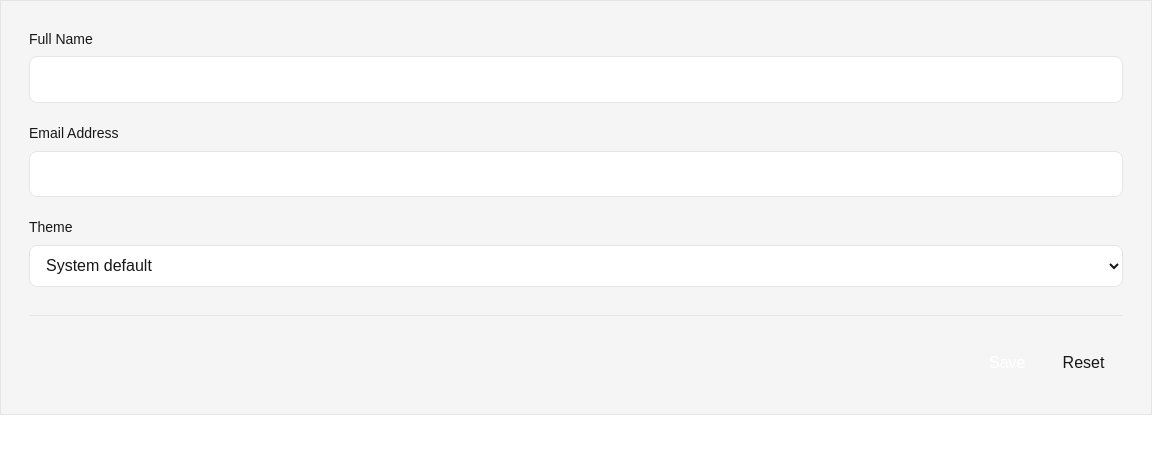
Test: SettingsForm › shows a required name validation message
Click the field labelled "Full Name". click: (576, 80)
box: [29,56,1123,103]
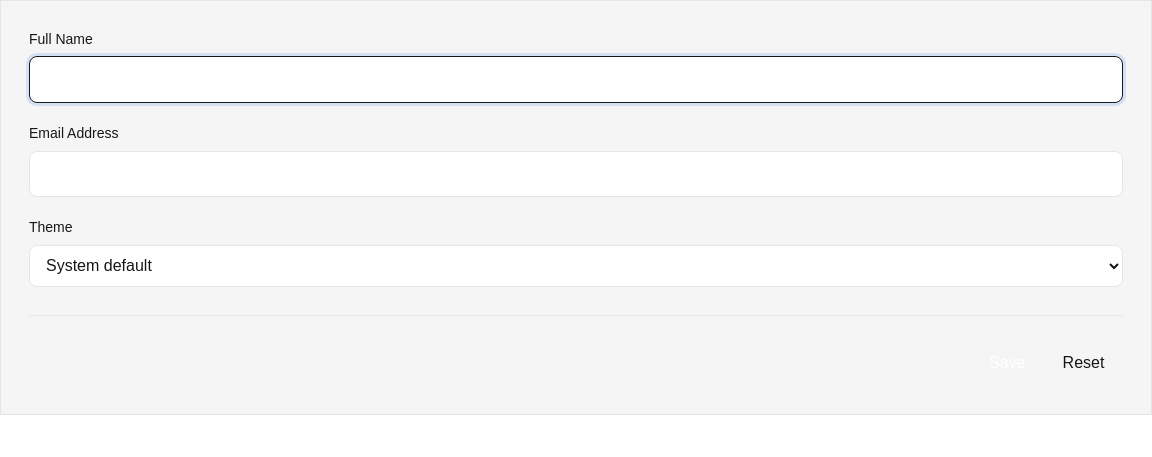
Press Tab
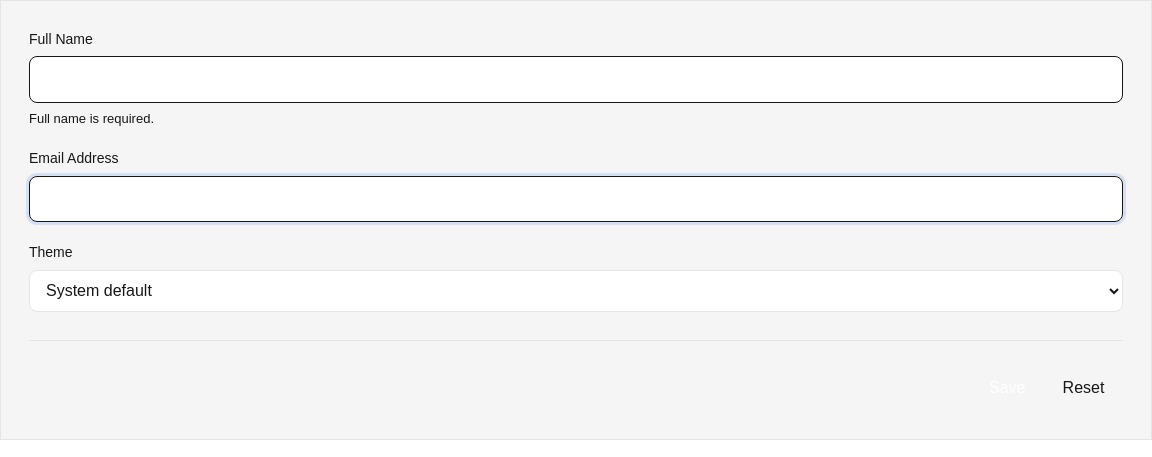
Result: the text "Full name is required." is shown at [29,111,154,126]
